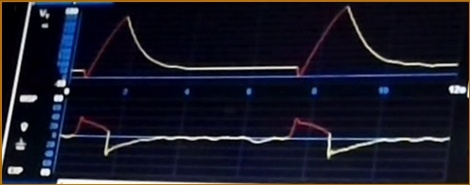Flow: (65, 109, 433, 177)
Leakage Volume: (78, 6, 441, 87)
